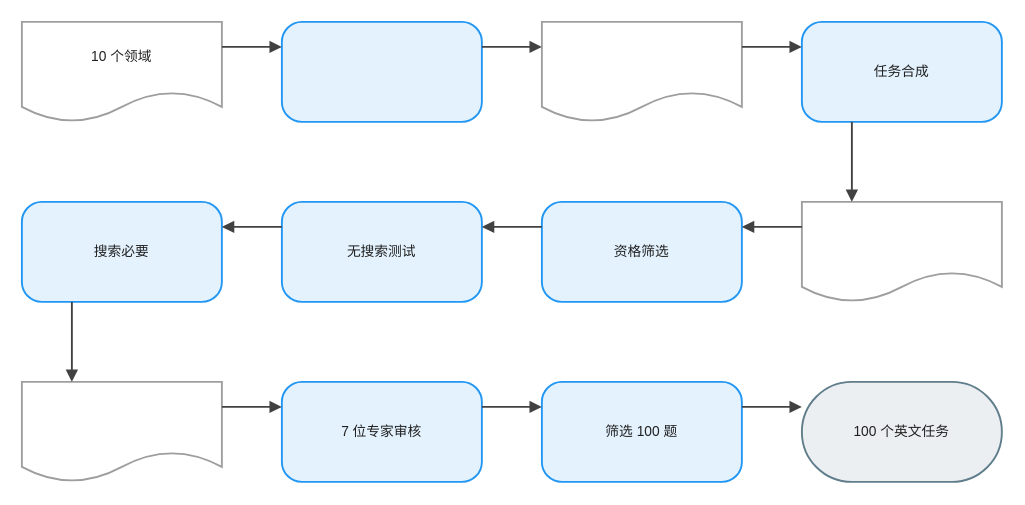
Image size: 1025x505. Some labels were removed from this diagram. The shapes that lost their labels are listed below. From the top down, each one's centre as x and y in pixels, then its label:
point (381, 71): GPT-5-mini
point (641, 71): 50 个人设
point (901, 251): 200 个候选
point (121, 431): 保留 155 题
